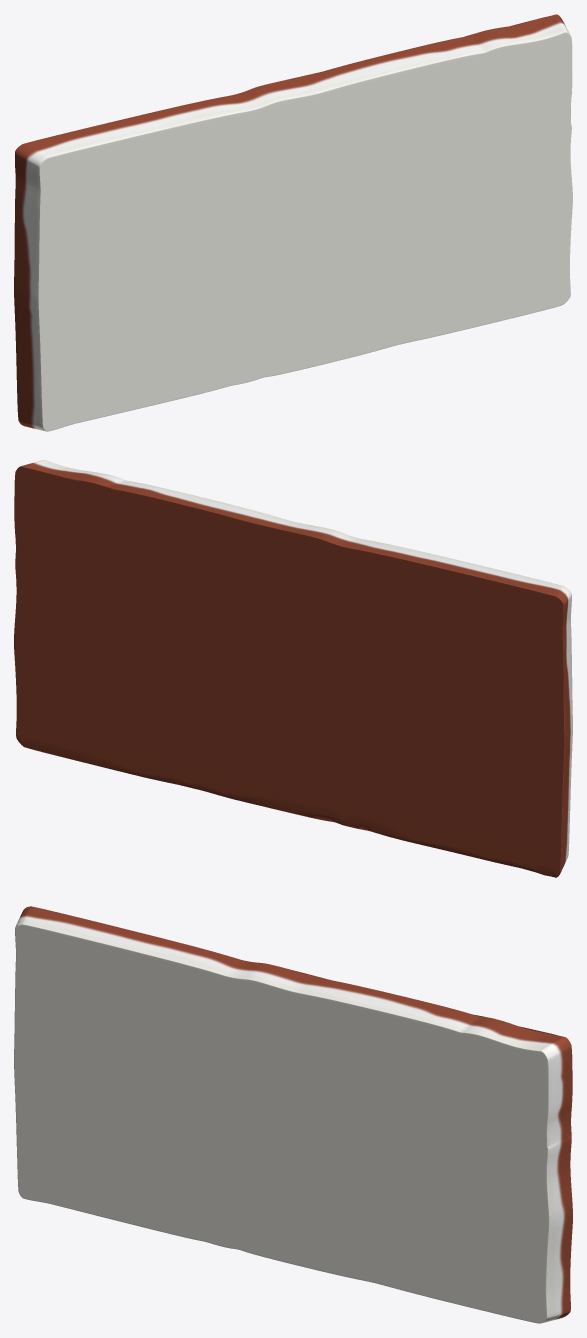
The picture shows the model from 3 angles, top to bottom: view 1: azimuth 30°, elevation 25°; view 2: azimuth 150°, elevation 25°; view 3: azimuth 330°, elevation 25°; orthographic projection.
Parts seen in each view (by area): view 1: 3DSMeshMatrix; view 2: 3DSMeshMatrix; view 3: 3DSMeshMatrix.
Boxes of the visible parts, bbox=[...] form: 3DSMeshMatrix: bbox=[14, 14, 572, 431]; 3DSMeshMatrix: bbox=[14, 460, 572, 877]; 3DSMeshMatrix: bbox=[14, 906, 572, 1323].
Size of the model in its own units: 15.19 by 7.46 by 0.8.
Materials: 1 (1 with a texture image).
